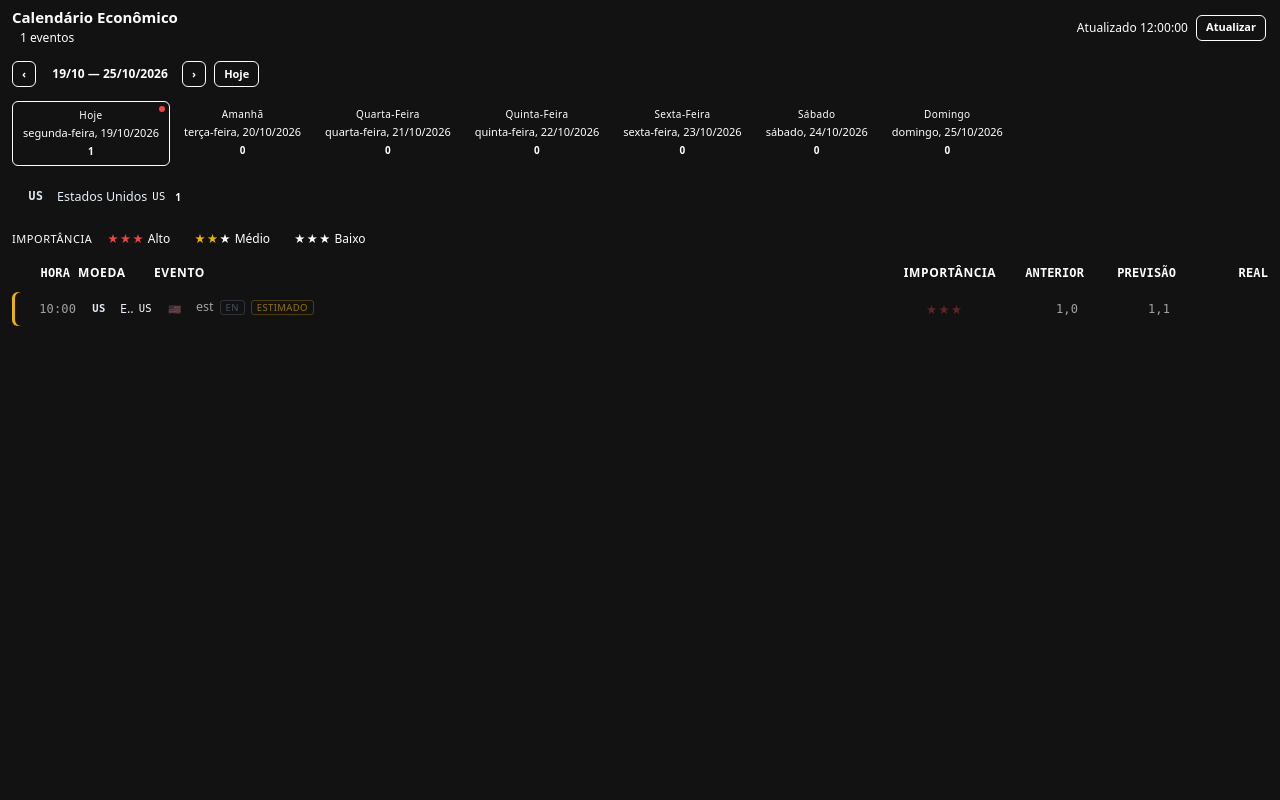
Scenario: EconomicCalendarTab — padrão MT5 › detalhe de evento estimado diz que e estimativa
Click the button with class "cal-row": click(58, 309) [12, 292, 1268, 326]
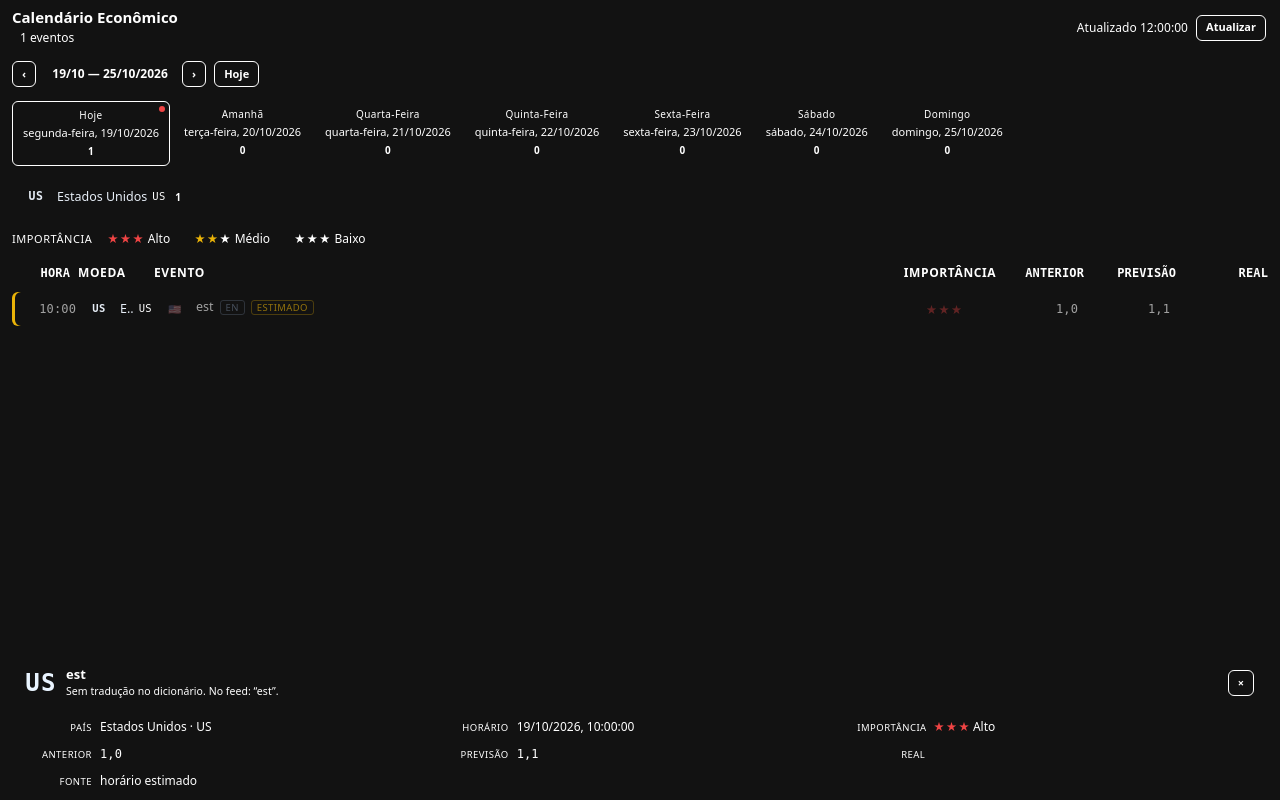
Expected: the element with class "cal-detalhe" shows "horário estimado", [100, 772, 197, 789]
